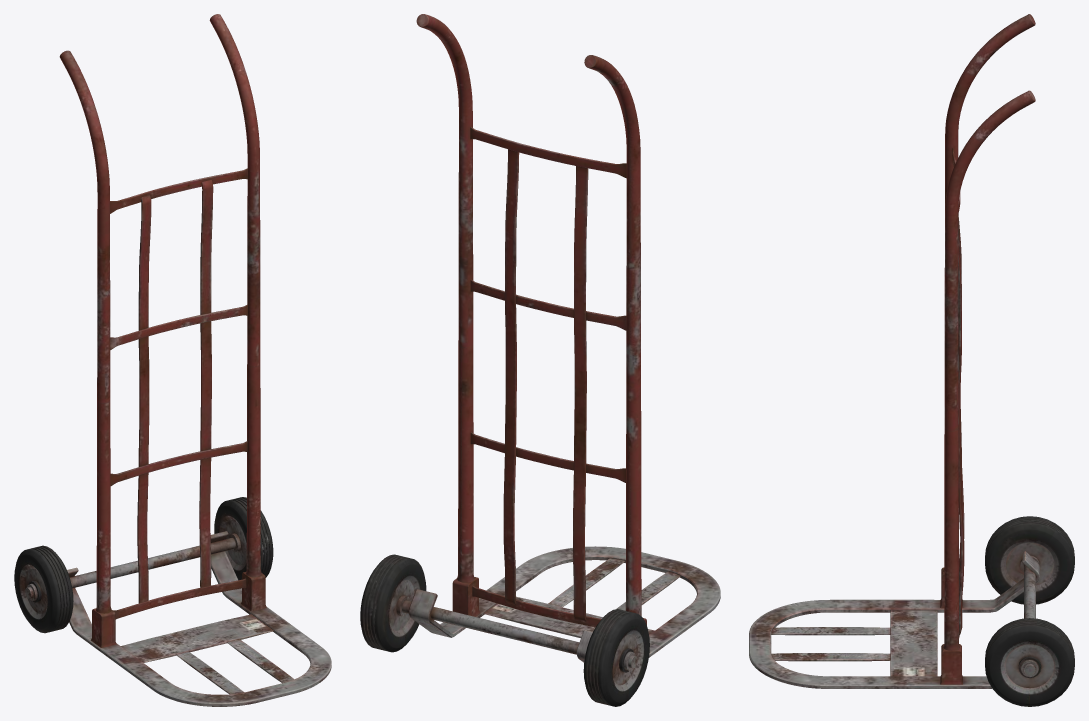
The model's file is hand_truck.glb.
3 views of the same model, side by side, from view 1: azimuth 30°, elevation 25°; view 2: azimuth 150°, elevation 25°; view 3: azimuth 270°, elevation 25° (orthographic). The views are drawn at different scales.
Parts seen in each view (by area): view 1: hand_truck; view 2: hand_truck; view 3: hand_truck.
Boxes of the visible parts, bbox=[...] form: hand_truck: bbox=[14, 14, 331, 706]; hand_truck: bbox=[360, 14, 720, 706]; hand_truck: bbox=[749, 14, 1074, 706].
Bounding box in the file's own units: 0.5933 × 1.4 × 0.6925.
Materials: 1 (1 with a texture image).
